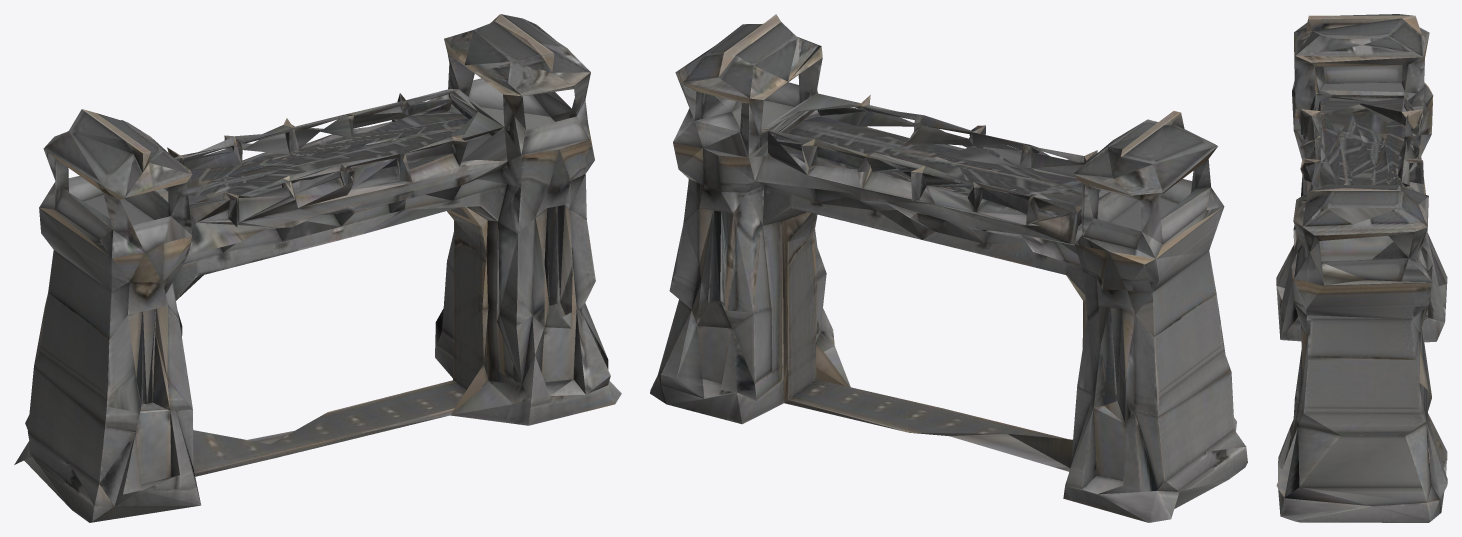
File: imperial_city_gate_lod2.glb
3 views of the same model, side by side, from view 1: azimuth 30°, elevation 25°; view 2: azimuth 150°, elevation 25°; view 3: azimuth 270°, elevation 25° (orthographic). The views are drawn at different scales.
Parts seen in each view (by area): view 1: mesh_node; view 2: mesh_node; view 3: mesh_node.
Boxes of the visible parts, bbox=[...] form: mesh_node: bbox=[14, 14, 621, 522]; mesh_node: bbox=[650, 14, 1247, 522]; mesh_node: bbox=[1276, 14, 1447, 522].
Bounding box in the file's own units: 12.54 × 7.92 × 4.01.
1 material, 1 textured.
